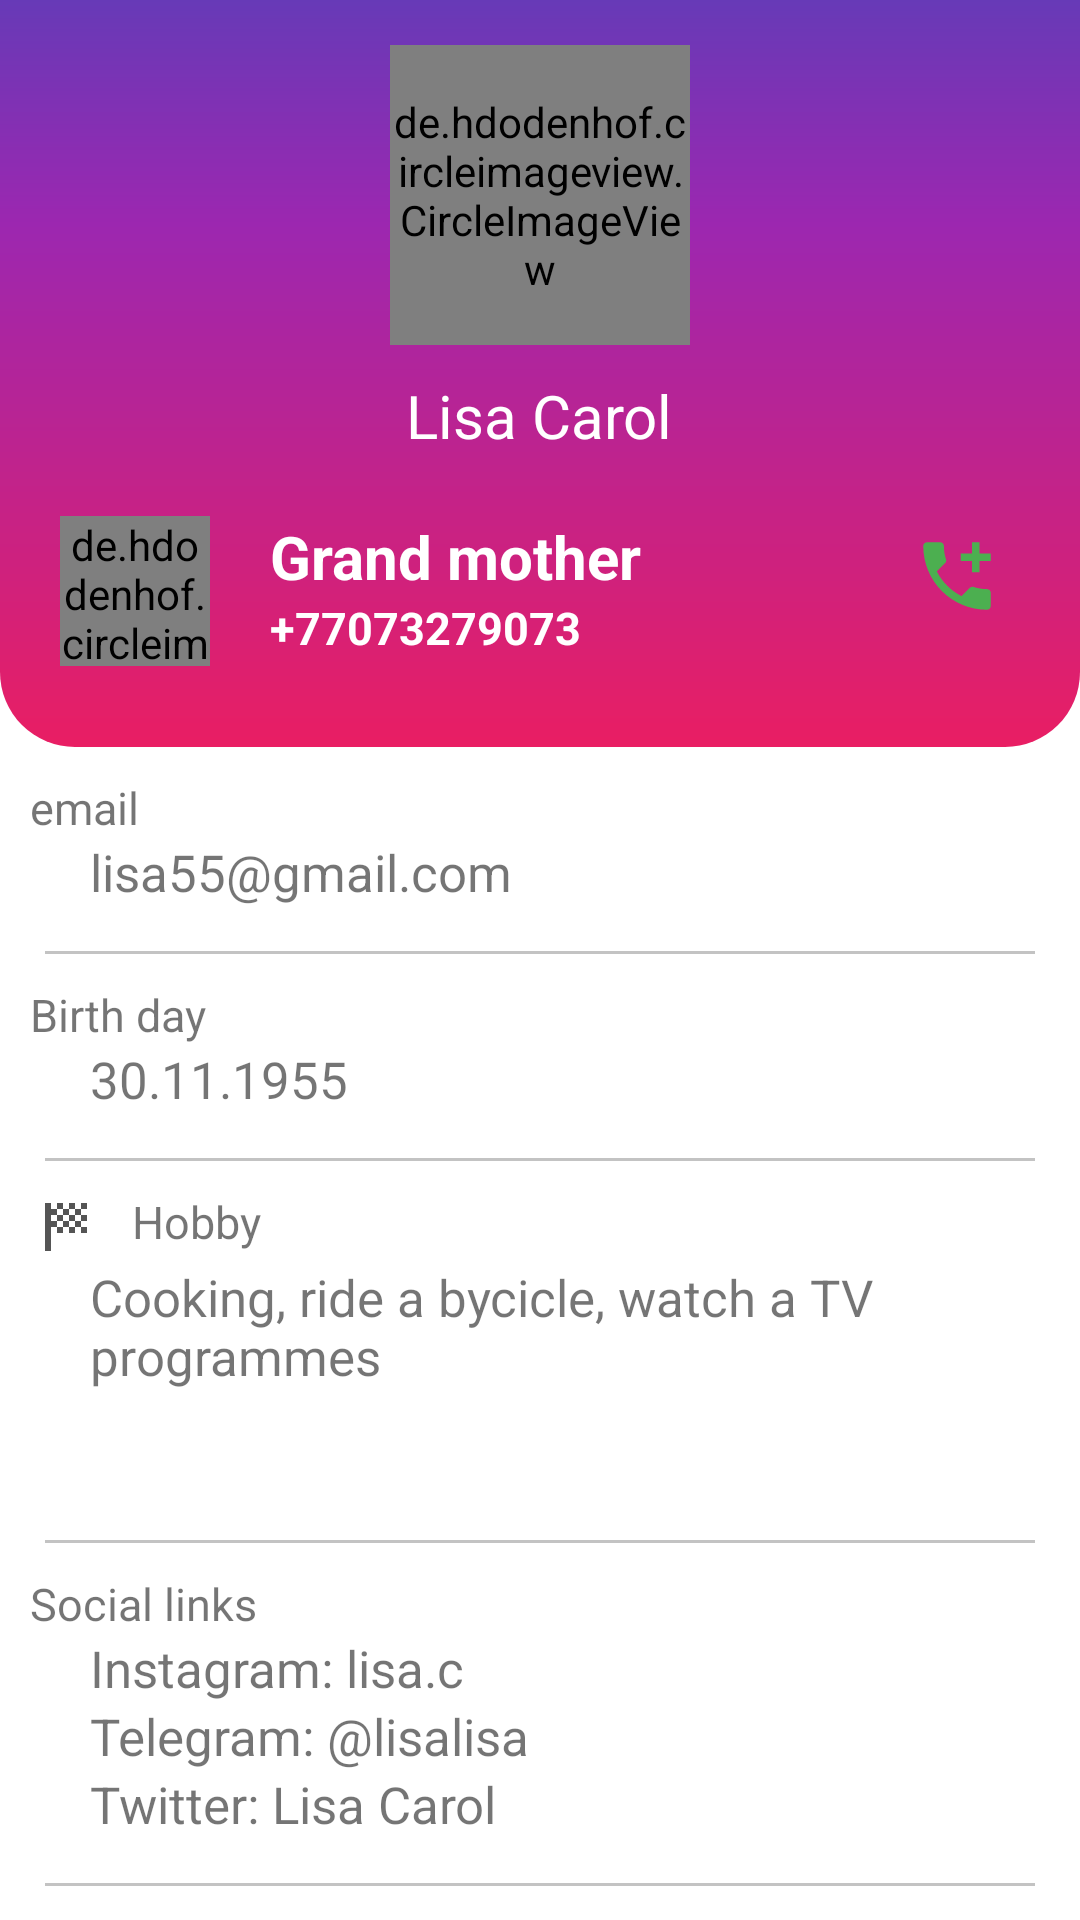

Icon click points for this 1080px x 1920px phone screenshot, format [x,y]:
call: [957,576]
